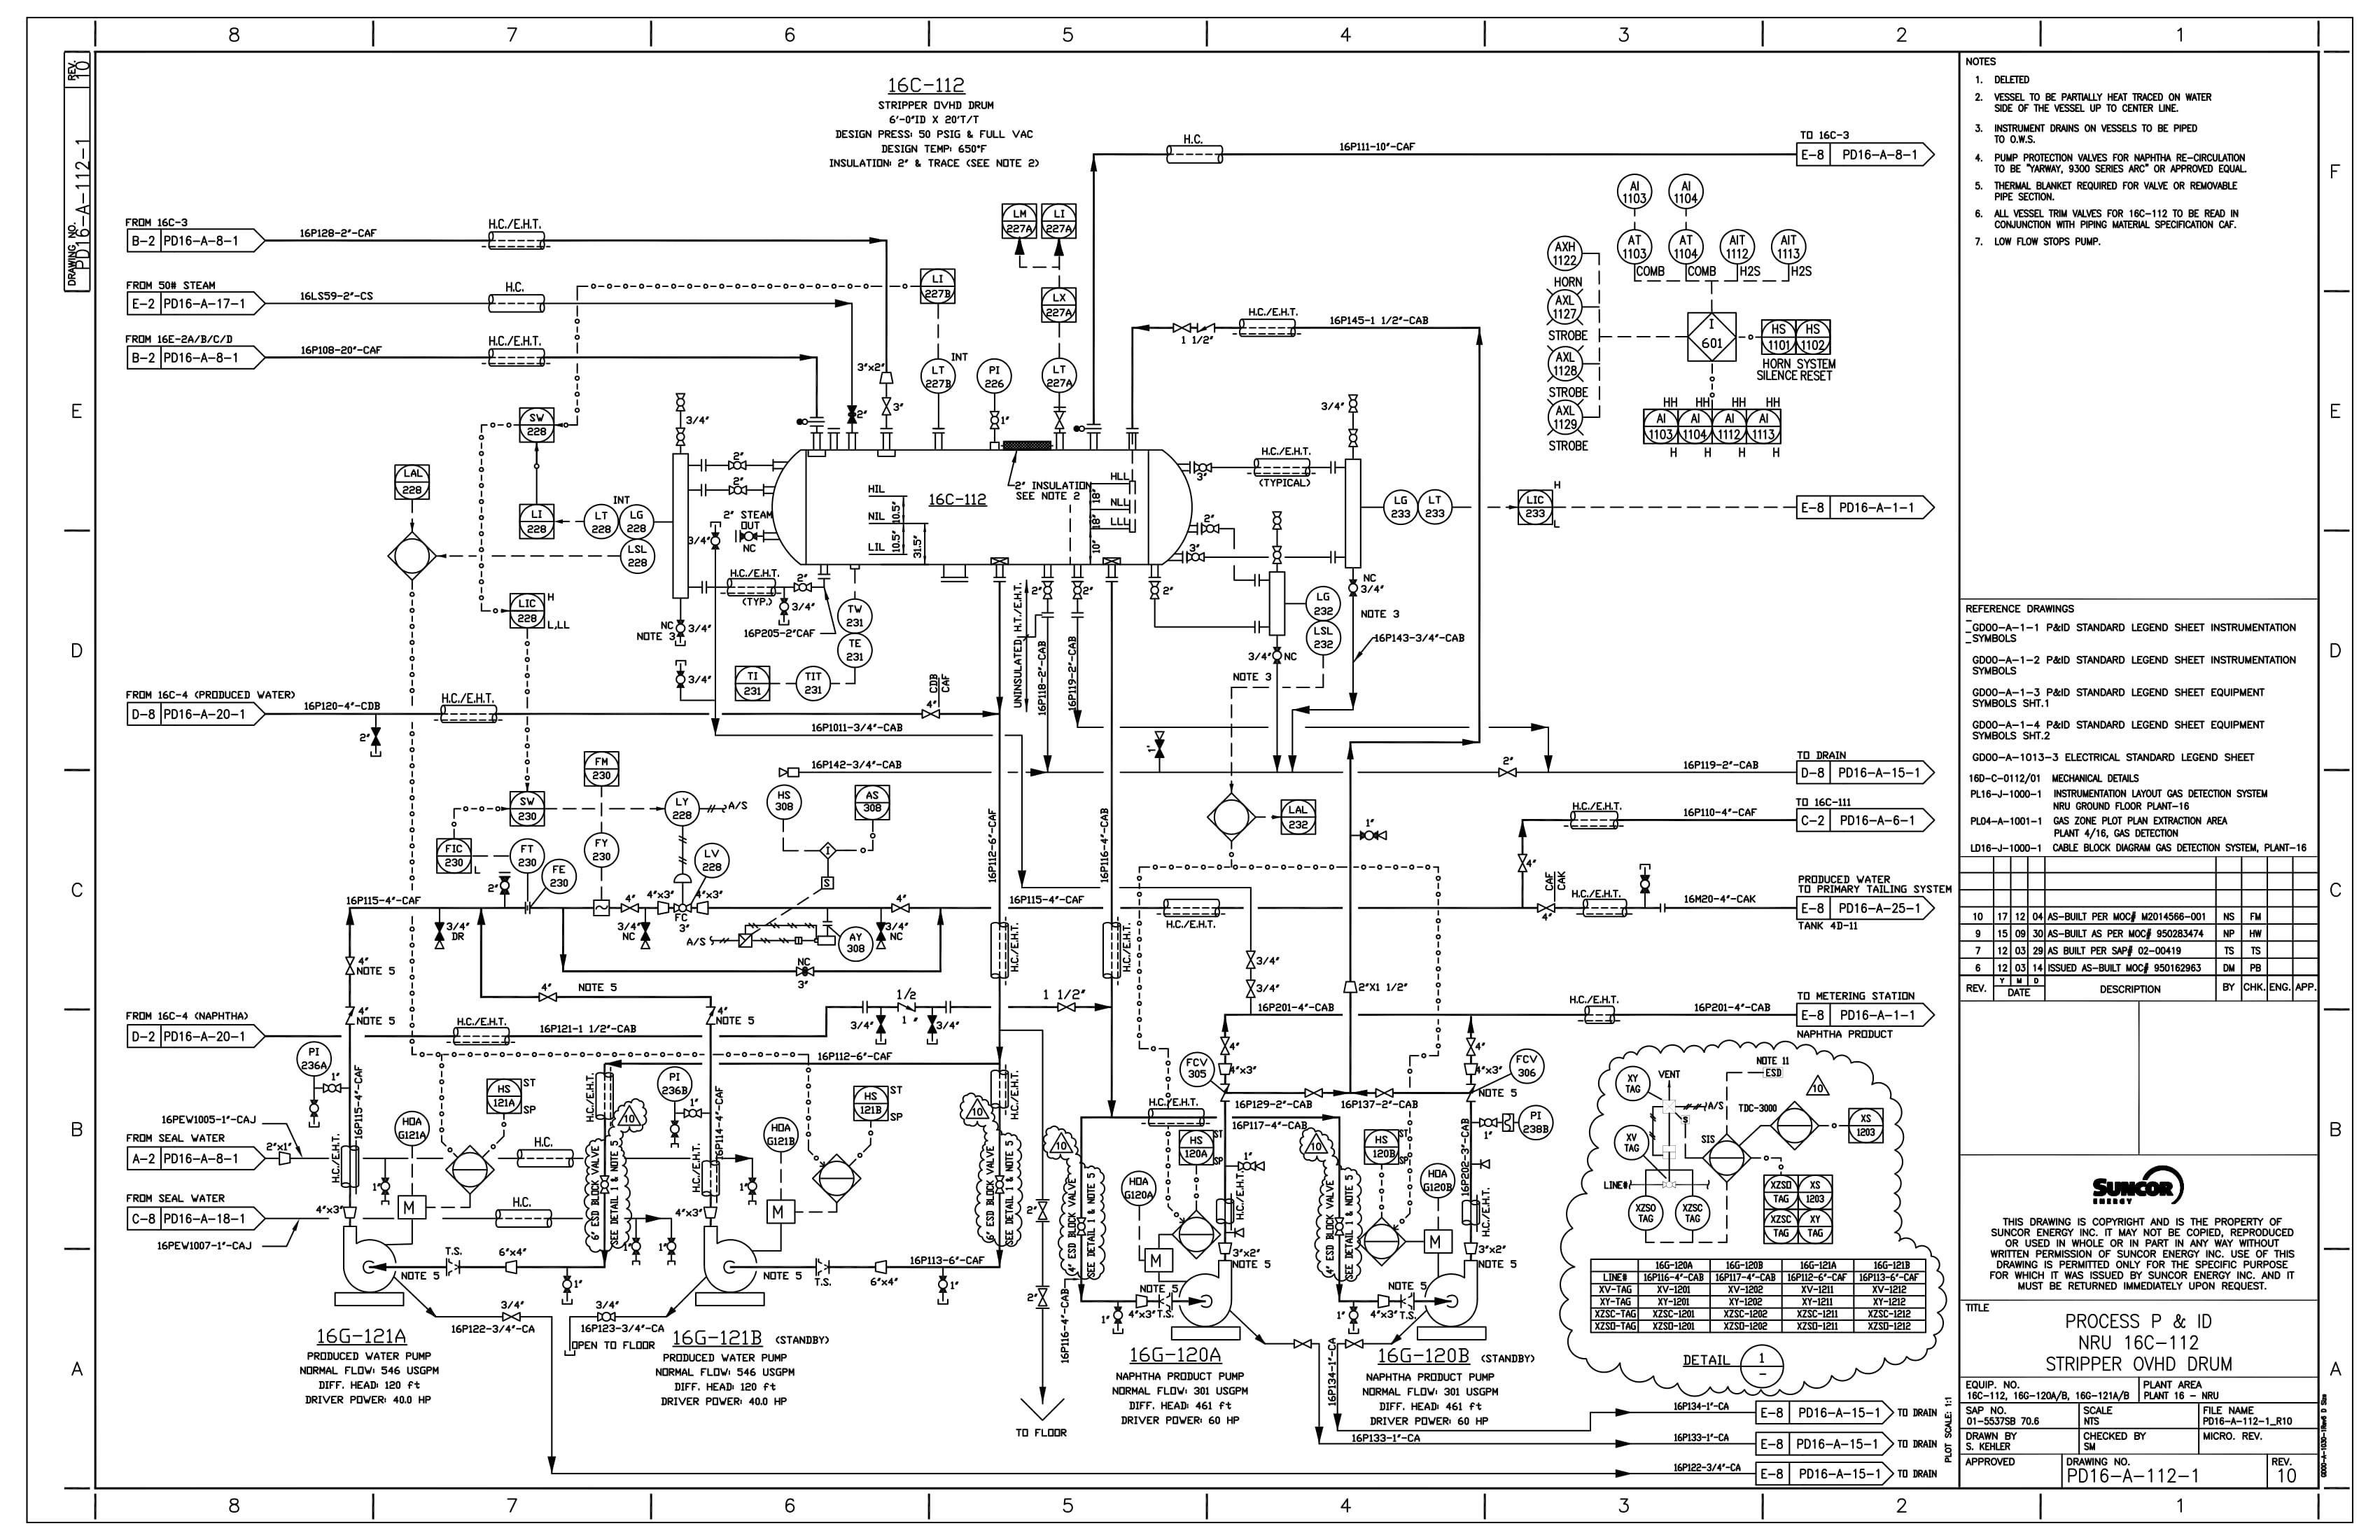Inline Instrument: (829, 624, 888, 671), (758, 1112, 812, 1162), (762, 780, 817, 829), (918, 352, 968, 404), (1034, 352, 1086, 402), (1502, 1044, 1559, 1089), (831, 919, 878, 971), (1299, 616, 1350, 661), (583, 824, 624, 878), (666, 784, 711, 832), (1173, 1047, 1219, 1091), (538, 857, 586, 897), (614, 541, 664, 579), (1520, 1103, 1561, 1148), (1381, 484, 1422, 529), (389, 1108, 435, 1148), (977, 354, 1015, 402), (833, 595, 876, 635), (619, 496, 657, 541), (793, 666, 840, 702), (1419, 486, 1455, 531), (692, 838, 730, 879), (1308, 581, 1346, 623), (583, 503, 621, 541), (510, 836, 545, 876)
Panel Instrument: (482, 1068, 545, 1120), (1745, 390, 1792, 460), (512, 399, 566, 456), (505, 588, 572, 633), (1634, 397, 1684, 456), (845, 1084, 911, 1126), (1180, 1122, 1233, 1172), (914, 262, 963, 312), (1363, 1122, 1414, 1171), (729, 662, 781, 709), (1037, 194, 1081, 246), (579, 744, 626, 791), (1034, 283, 1086, 324), (1792, 1169, 1839, 1214), (850, 782, 897, 824), (515, 498, 559, 541), (1278, 796, 1322, 839), (1757, 317, 1799, 361), (1762, 1167, 1801, 1214), (508, 787, 550, 829), (997, 199, 1041, 239)
